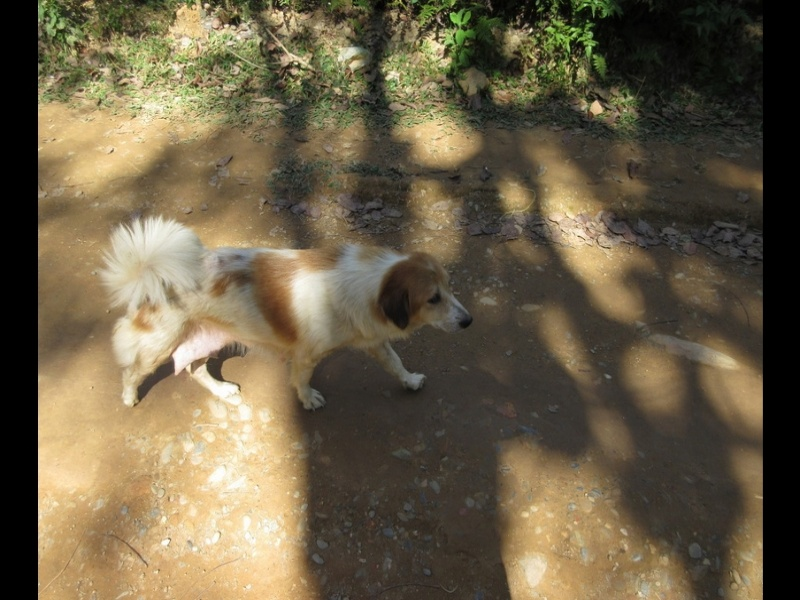dog: (95, 216, 478, 424)
